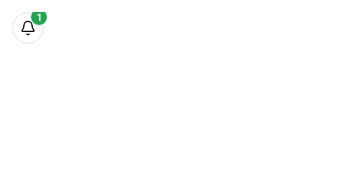
painel › lista título e corpo ao abrir
Click the button named "Notificações": (28, 28) [12,12,44,44]
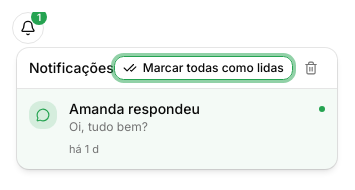
Expected: the text "Amanda respondeu" is shown, [69,99,200,119]
Expected: the text "Oi, tudo bem?" is shown, [69,119,148,134]
